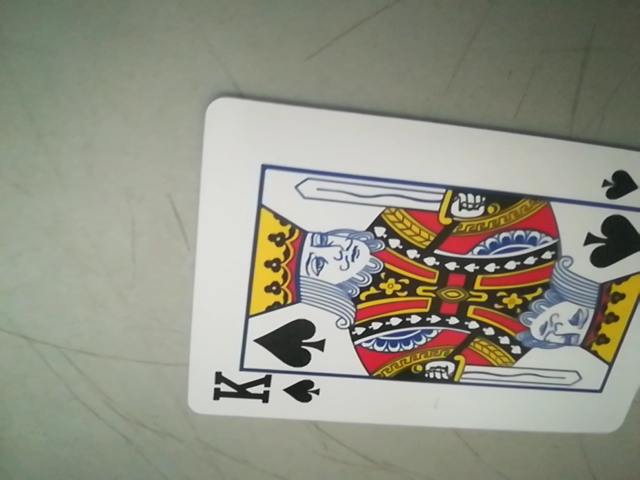ht k: (205, 367, 327, 413)
